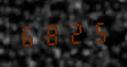eight: (40, 21, 61, 47)
five: (84, 18, 105, 44)
six: (18, 22, 39, 48)
two: (62, 20, 83, 45)
